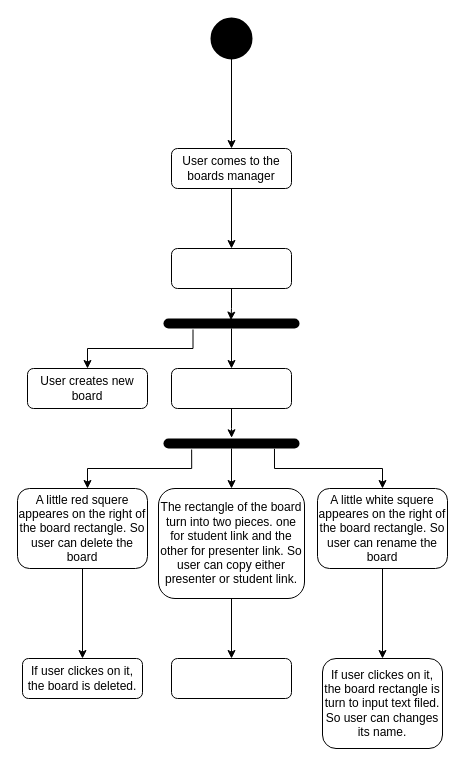
This 465x766 diagram has some shape labels left out. Here are the shapes that lost their labels. From the top down, the box of each, then its label:
(170, 248, 292, 288): User sees its boards
(170, 368, 292, 408): User hovers boards for more actions
(170, 658, 292, 698): If user clickes on it, the link is copied to the clipboard.
